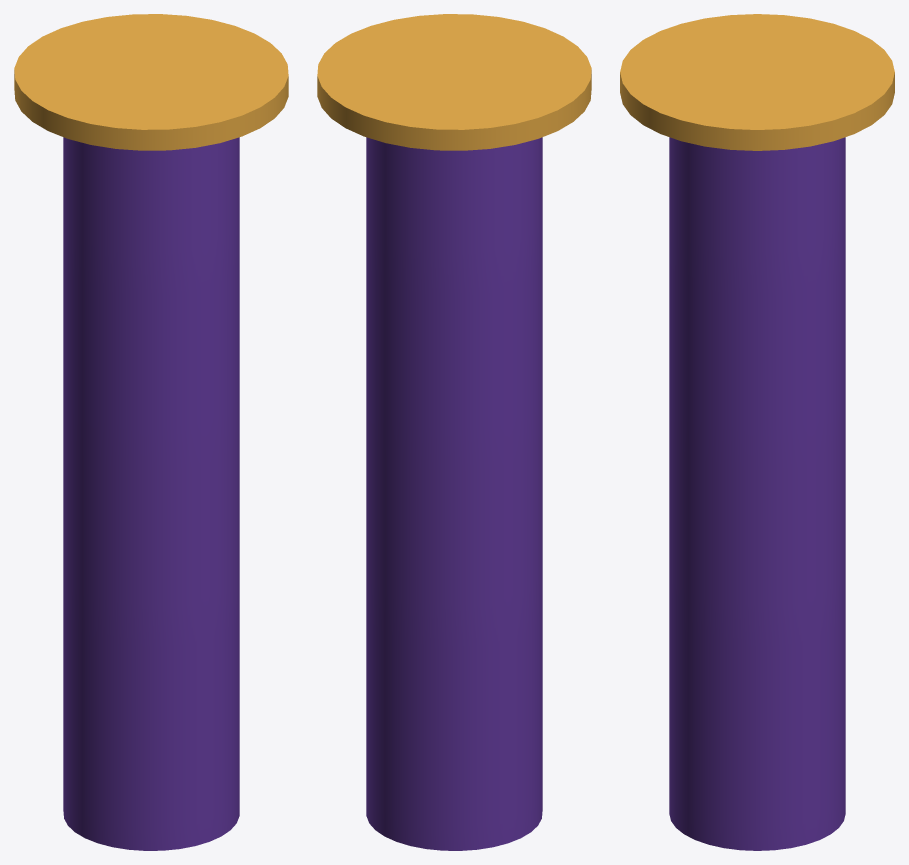
The model's file is pipe2.fbx.
3 views of the same model, side by side, from view 1: azimuth 30°, elevation 25°; view 2: azimuth 150°, elevation 25°; view 3: azimuth 270°, elevation 25° (orthographic).
Visible parts, largest first — view 1: pipe2; view 2: pipe2; view 3: pipe2.
Boxes of the visible parts, x1=… form: pipe2: x1=14, y1=14, x2=288, y2=850; pipe2: x1=317, y1=14, x2=591, y2=850; pipe2: x1=620, y1=14, x2=894, y2=850.
Size of the model in its own units: 1.65 by 1.65 by 4.91.
Materials: 2 (1 with a texture image).
